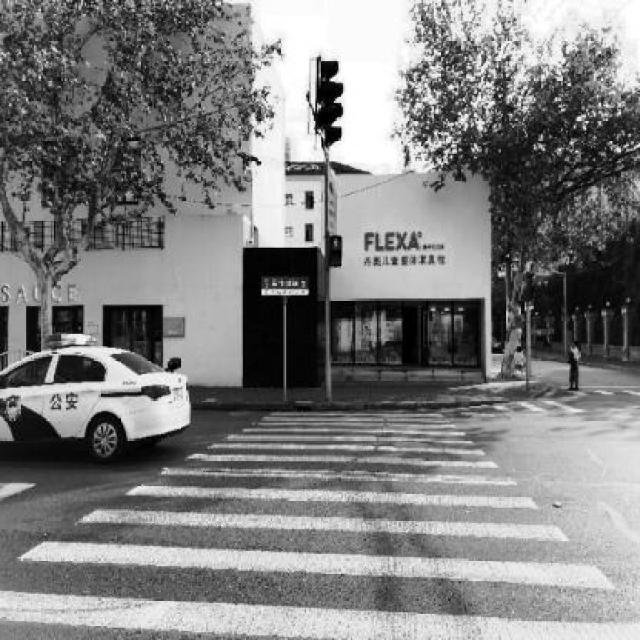crosswalk: (2, 408, 640, 640)
